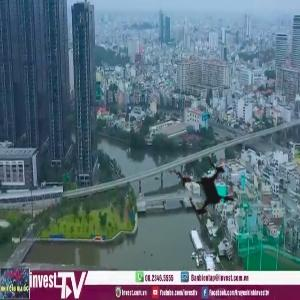drone: (148, 125, 275, 252)
